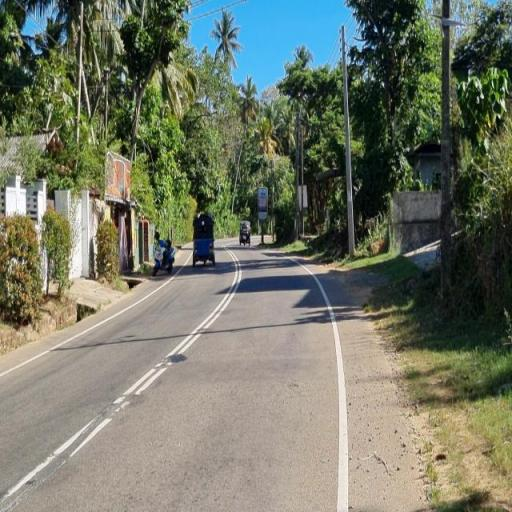double_white_line: (111, 252, 240, 414)
